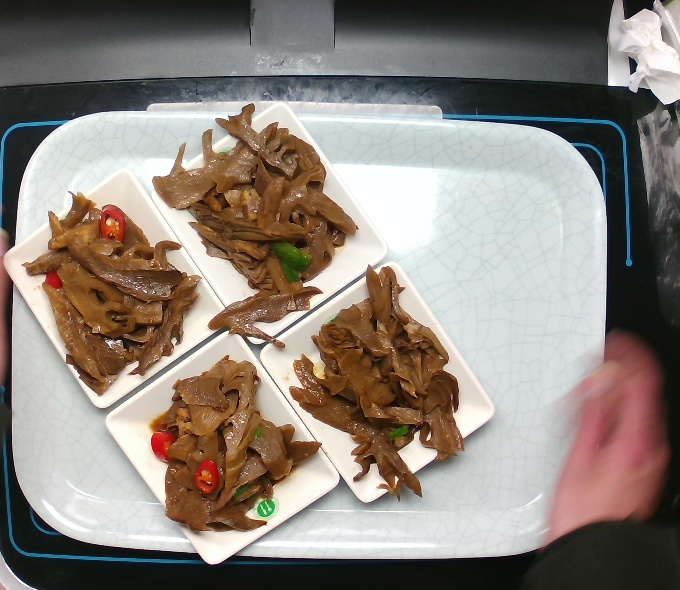wcq-SunGan: (155, 96, 358, 351), (294, 264, 466, 505), (18, 183, 203, 405), (137, 361, 330, 537)
